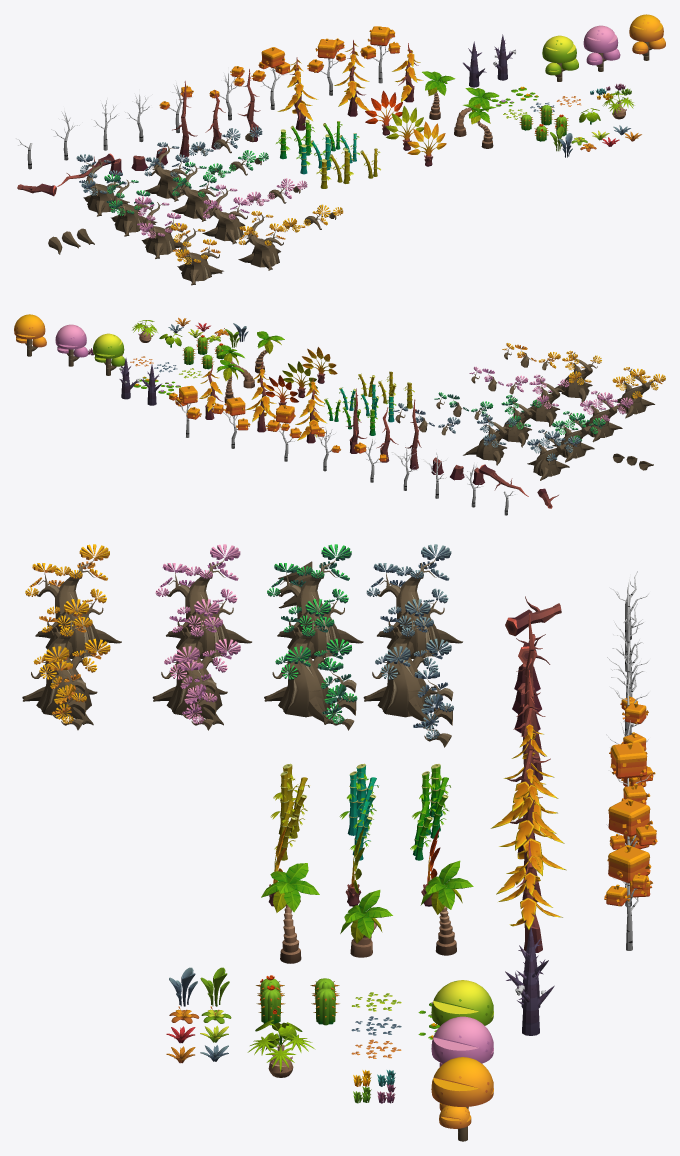
The model's file is TreesPack.glb.
3 views of the same model, one above another, from view 1: azimuth 30°, elevation 25°; view 2: azimuth 150°, elevation 25°; view 3: azimuth 270°, elevation 25° (orthographic). The views are drawn at different scales.
Parts seen in each view (by area): view 1: ancient_tree_yellow_1, ancient_tree_pink_1, ancient_tree_yellow_2, ancient_tree_pink_2, ancient_tree_1.001, ancient_tree_winter_1.001, ancient_tree_2.001, ancient_tree_winter_2.001, garden_tree_green, garden_tree_yellow, garden_tree_pink, birch3 (+17 smaller); view 2: ancient_tree_winter_1.001, ancient_tree_yellow_1, ancient_tree_pink_1, ancient_tree_1.001, ancient_tree_winter_2.001, ancient_tree_yellow_2, ancient_tree_pink_2, ancient_tree_2.001, garden_tree_pink, garden_tree_yellow, garden_tree_green, birch3 (+19 smaller); view 3: ancient_tree_winter_2.001, ancient_tree_2.001, ancient_tree_winter_1.001, ancient_tree_yellow_1, ancient_tree_1.001, ancient_tree_pink_1, ancient_tree_yellow_2, ancient_tree_pink_2, garden_tree_yellow, birch1, garden_tree_pink, coconut3 (+14 smaller).
Boxes of the visible parts, box(x1,y1,x2,y2) form: ancient_tree_yellow_1: box(170, 223, 223, 285); ancient_tree_pink_1: box(135, 196, 183, 258); ancient_tree_yellow_2: box(238, 211, 285, 270); ancient_tree_pink_2: box(202, 184, 249, 244); ancient_tree_1.001: box(104, 174, 157, 236); ancient_tree_winter_1.001: box(76, 154, 129, 216); ancient_tree_2.001: box(172, 162, 218, 221); ancient_tree_winter_2.001: box(144, 142, 190, 201); garden_tree_green: box(542, 35, 578, 81); garden_tree_yellow: box(629, 14, 665, 60); garden_tree_pink: box(583, 25, 620, 71); birch3: box(251, 47, 290, 109); ancient_tree_winter_1.001: box(527, 429, 580, 480); ancient_tree_yellow_1: box(612, 367, 665, 418); ancient_tree_pink_1: box(580, 390, 633, 442); ancient_tree_1.001: box(552, 411, 605, 462); ancient_tree_winter_2.001: box(463, 413, 516, 465); ancient_tree_yellow_2: box(548, 350, 601, 402); ancient_tree_pink_2: box(520, 374, 569, 426); ancient_tree_2.001: box(495, 395, 541, 447); garden_tree_pink: box(55, 324, 88, 366); garden_tree_yellow: box(14, 314, 46, 356); garden_tree_green: box(93, 333, 125, 375); birch3: box(265, 405, 301, 461); ancient_tree_winter_2.001: box(363, 616, 451, 725); ancient_tree_2.001: box(264, 616, 351, 724); ancient_tree_winter_1.001: box(366, 544, 462, 658); ancient_tree_yellow_1: box(25, 544, 121, 658); ancient_tree_1.001: box(267, 544, 363, 658); ancient_tree_pink_1: box(155, 544, 251, 658); ancient_tree_yellow_2: box(22, 616, 110, 725); ancient_tree_pink_2: box(152, 616, 240, 725); garden_tree_yellow: box(431, 1057, 493, 1141); birch1: box(604, 845, 652, 950); garden_tree_pink: box(431, 1016, 493, 1066); coconut3: box(261, 863, 319, 963).
Bounding box in the file's own units: 85.33 × 9.75 × 39.44.
2 materials, 2 textured.
